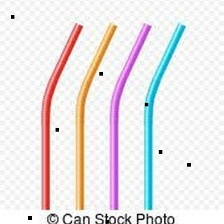drinking_straw: (135, 17, 189, 212), (34, 16, 85, 212), (104, 16, 154, 212), (70, 15, 119, 211)
